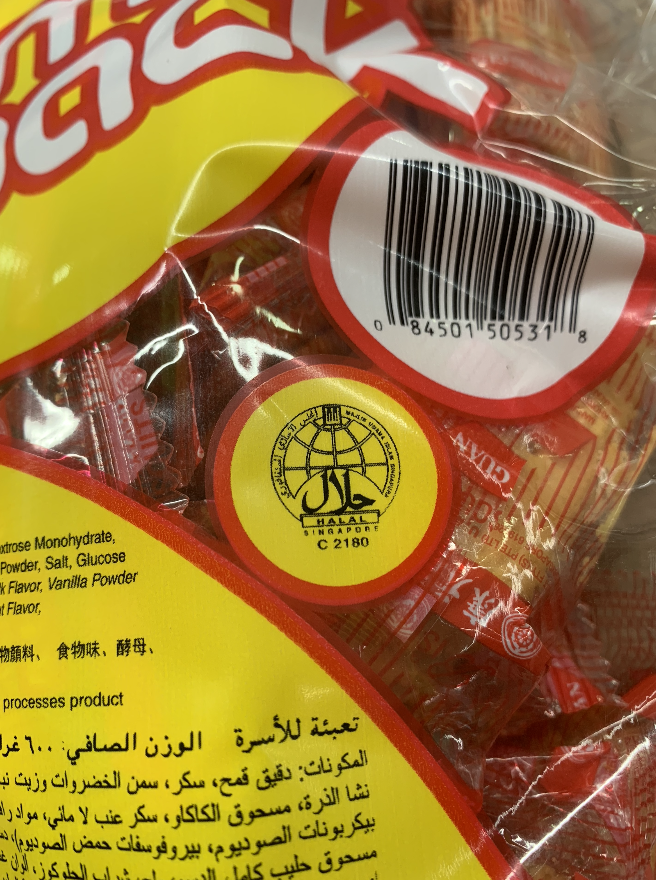halal: (278, 405, 389, 548)
